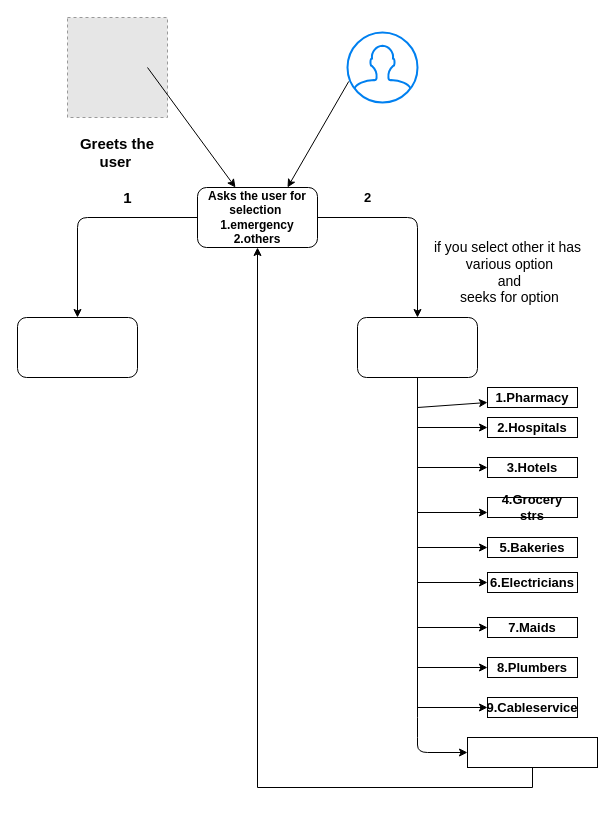
Image size: 615x813. Some labels were removed from this diagram. Grey dashed boxes stand in for pictures. The shapes that lost their labels are listed below. From the top down, each one's box as (x1, y1, x2, y2) in pixels, then its label:
(16, 316, 138, 378): 1.Emergency Numbers
(356, 316, 478, 378): 2.others
(466, 736, 598, 768): 10.Internet servi ce
